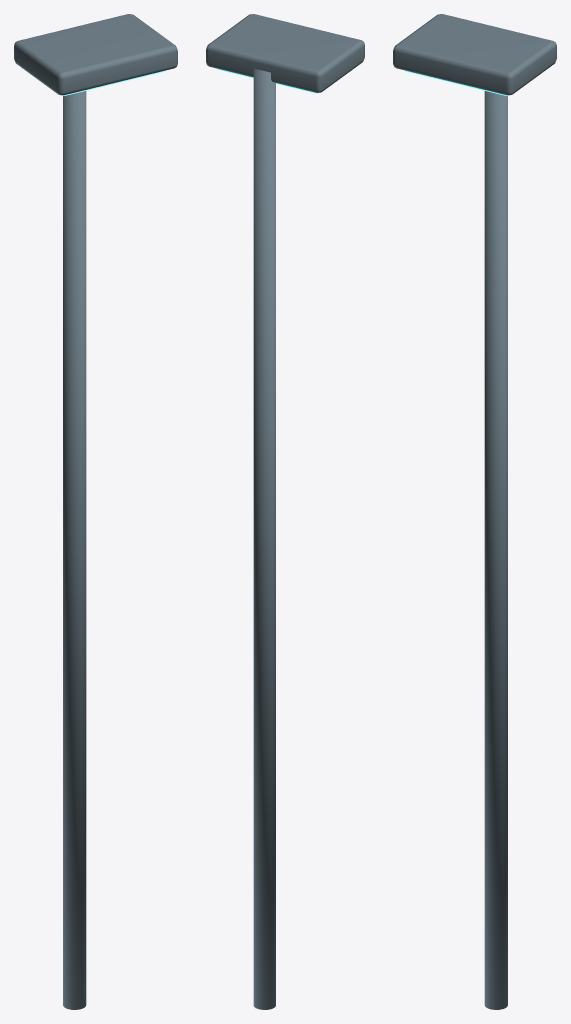
Rendered from SM_FE_LightPole.fbx.
The picture shows the model from 3 angles, left to right: view 1: azimuth 30°, elevation 25°; view 2: azimuth 150°, elevation 25°; view 3: azimuth 330°, elevation 25°; orthographic projection. The views are drawn at different scales.
Visible parts, largest first — view 1: SM_FE_LightPole; view 2: SM_FE_LightPole; view 3: SM_FE_LightPole.
Boxes of the visible parts, x1=… form: SM_FE_LightPole: x1=14, y1=14, x2=177, y2=1009; SM_FE_LightPole: x1=206, y1=14, x2=364, y2=1009; SM_FE_LightPole: x1=393, y1=14, x2=556, y2=1009.
Bounding box in the file's own units: 65 × 48 × 506.
